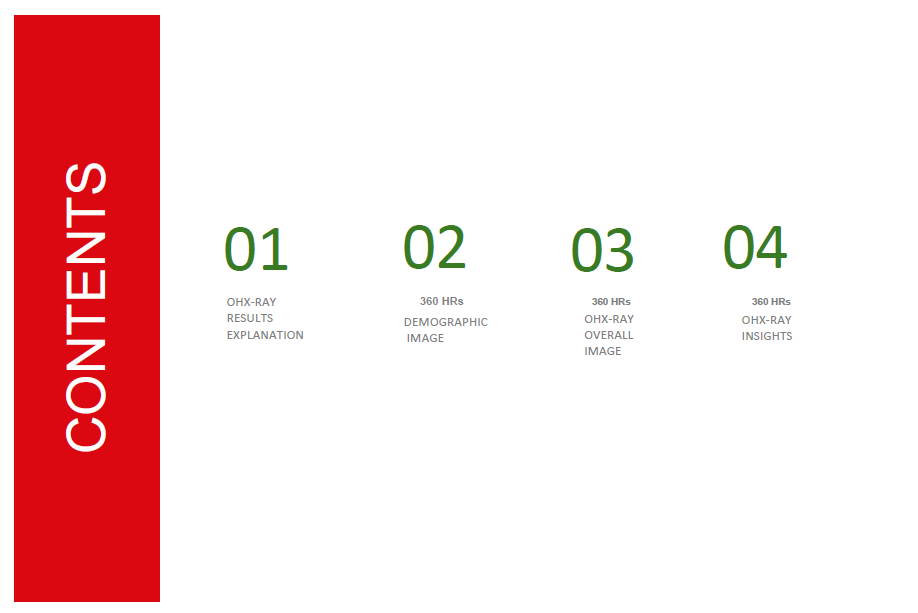

Layout of this report page (visuals, bound fields, positions):
{"tool":"powerbi","page":{"name":"Page 3","canvas":[1280,720],"ordinal":2},"visuals":[{"type":"image","box":[296,0,720,720],"z":0}]}

Visuals, with their boxes on the page's 1280x720 design canvas (x1, y1, x2, y2). These are canvas units, not pixel positions in the 918x613 screenshot, which may show the page scaled, cropped or inside an application window:
image: BBox(296, 0, 1016, 720)
